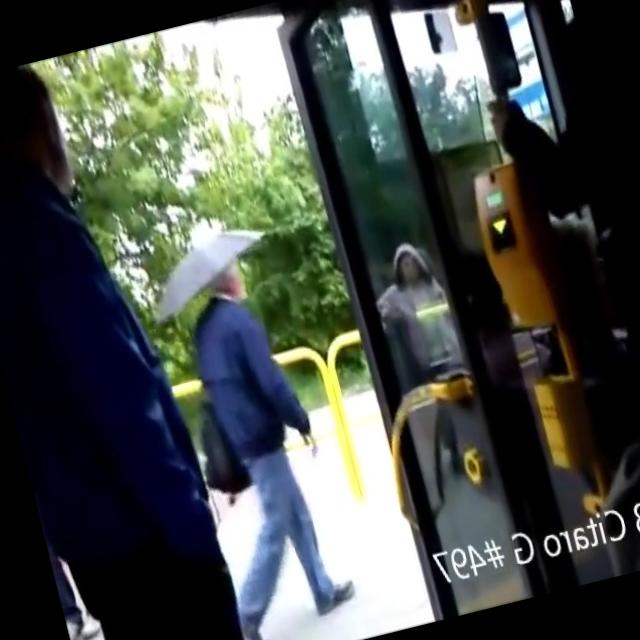bus-door: (280, 0, 576, 617)
